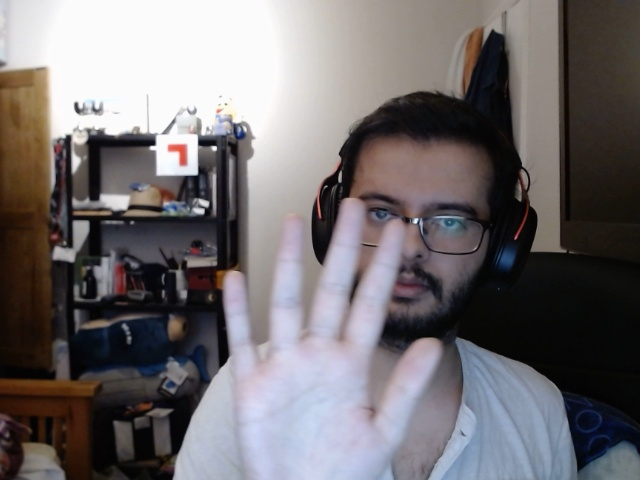Hello: (196, 191, 473, 480)
